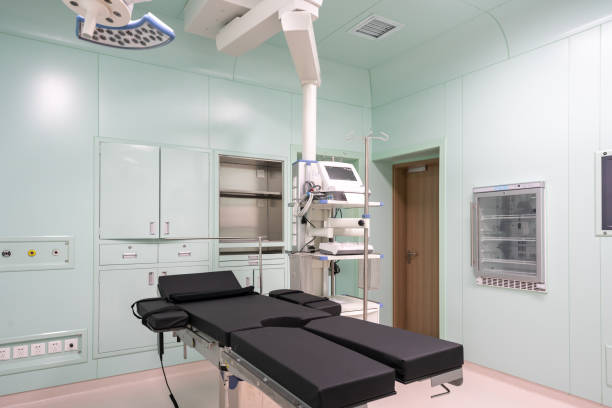bedside_monitor: (320, 164, 357, 192)
door_handle: (405, 249, 417, 257)
handle: (149, 219, 157, 236), (164, 220, 171, 236), (122, 253, 137, 260), (147, 270, 154, 285), (177, 251, 193, 257)
iv_pole: (345, 128, 388, 322)
operating_bed: (131, 270, 467, 408)
surgical_light: (45, 1, 231, 68)
